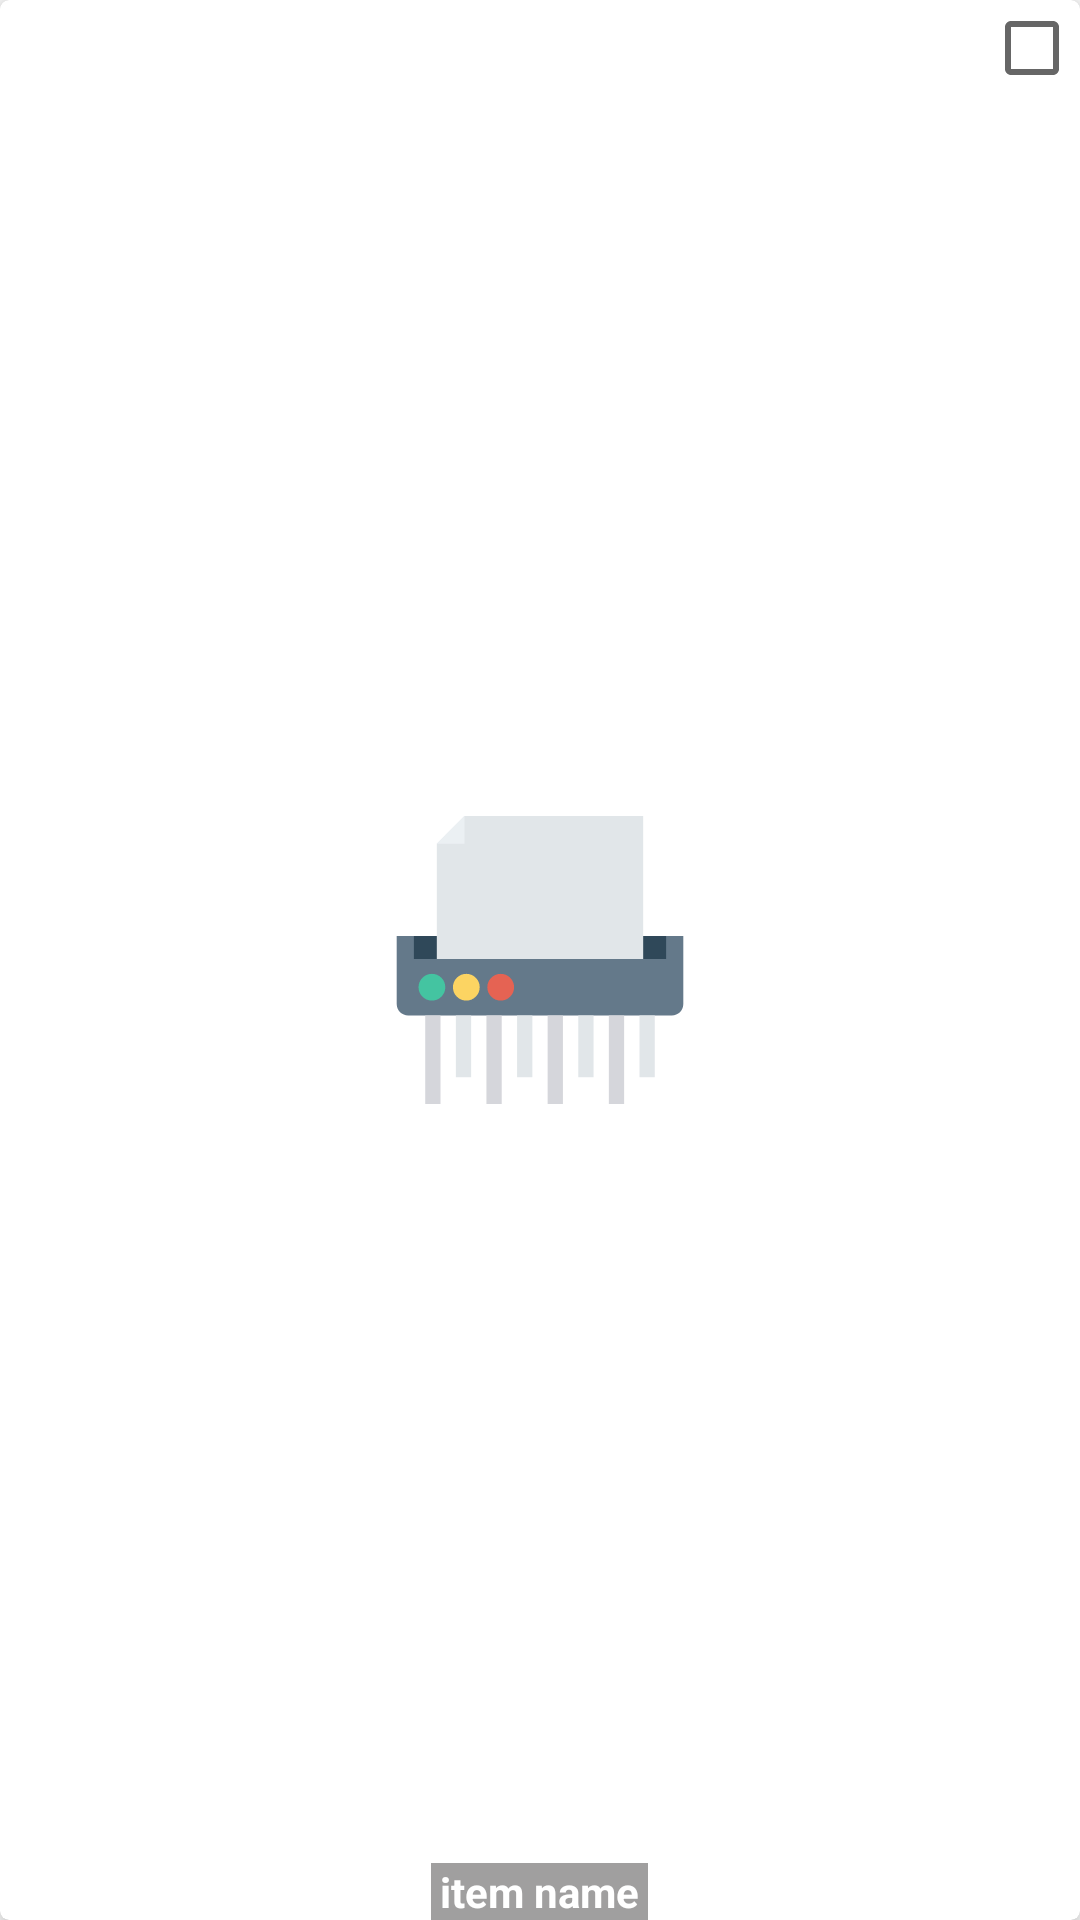

Icon click points for this 1080x1920 phone screenshot, format point (x, y):
shredder: point (540, 960)
